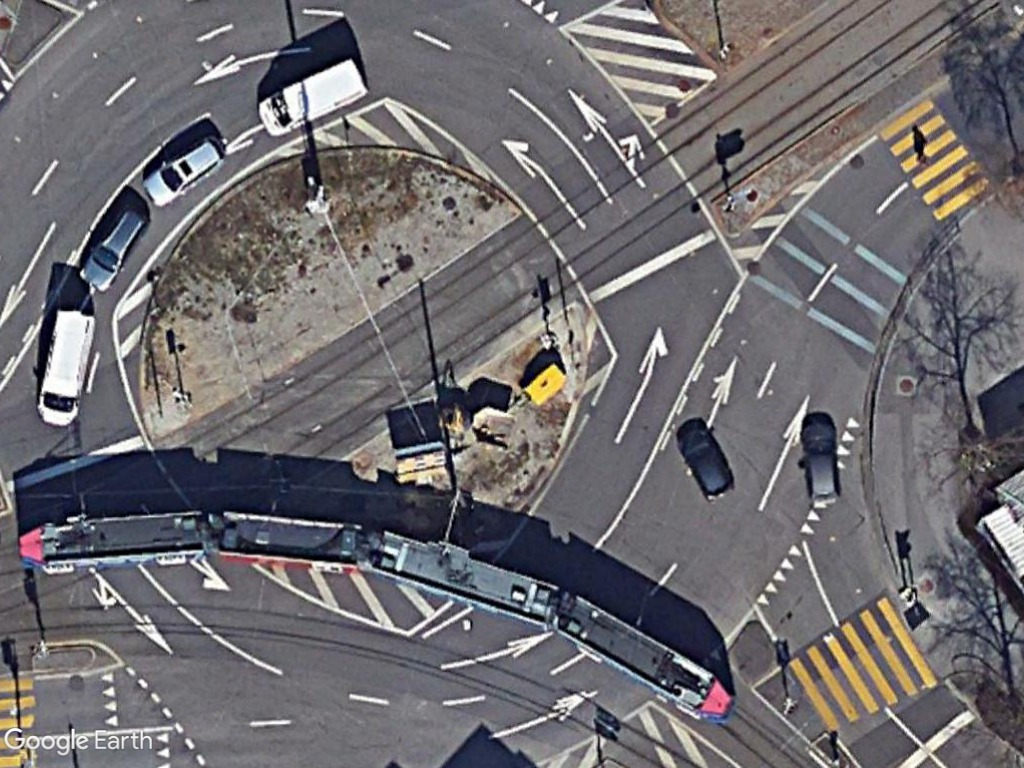car: (142, 132, 228, 207), (80, 201, 150, 292), (803, 417, 843, 508)
van: (256, 59, 370, 139), (36, 305, 99, 427)
